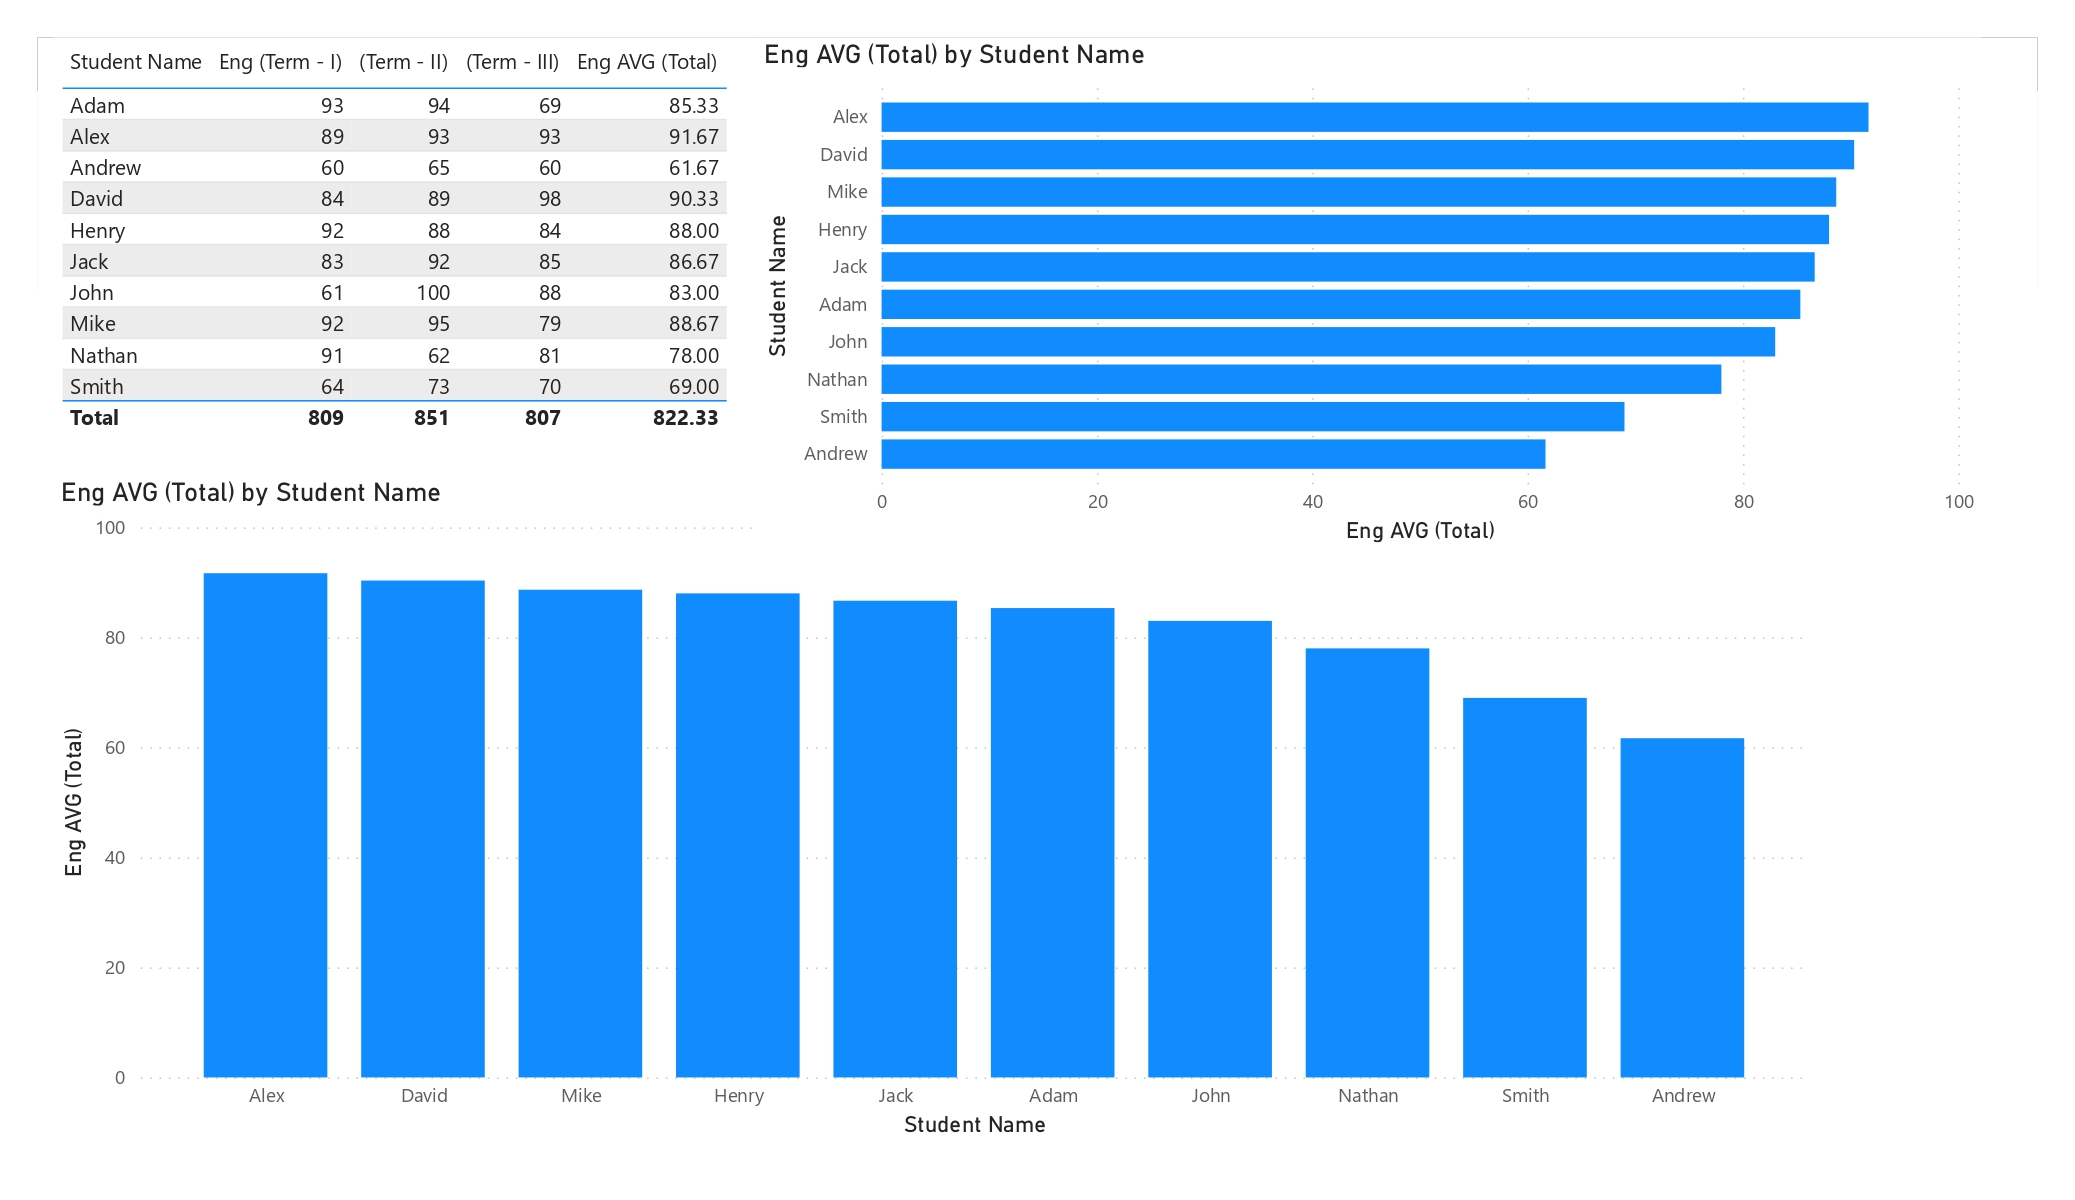

What the dashboard file says about the page in this screenshot:
{"tool":"powerbi","page":{"name":"Exam Report for English language","canvas":[1280,720],"ordinal":0},"visuals":[{"type":"tableEx","fields":{"Values":["student report.Student Name","student report.Eng             (Term - I)","student report.(Term - II)","student report.(Term - III)","student report.Eng Total"]},"box":[10.1,0,450.2,280.5],"z":0},{"type":"columnChart","fields":{"Category":["student report.Student Name"],"Y":["student report.Eng AVG (Total)"]},"box":[10.1,280.5,1128.8,428.3],"z":1},{"type":"barChart","fields":{"Category":["student report.Student Name"],"Y":["student report.Eng AVG (Total)"]},"box":[460.3,0,784.5,327.6],"z":2}]}

Visuals, with their boxes on the page's 1280x720 design canvas (x1, y1, x2, y2). These are canvas units, not pixel positions in the 2075x1200 screenshot, which may show the page scaled, cropped or inside an application window:
tableEx - student report.Student Name x student report.Eng             (Term - I): Rect(10, 0, 460, 280)
columnChart - student report.Student Name x student report.Eng AVG (Total): Rect(10, 280, 1139, 709)
barChart - student report.Student Name x student report.Eng AVG (Total): Rect(460, 0, 1245, 328)
